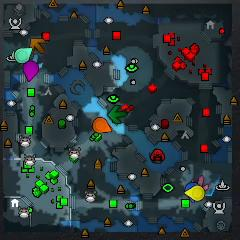p1: (185, 183, 198, 203)
p2: (15, 48, 33, 64)
p3: (23, 61, 39, 81)
p4: (185, 186, 204, 201)
p5: (94, 117, 112, 133)
x1: (191, 176, 209, 190)
x3: (32, 54, 43, 68)
x4: (108, 106, 127, 123)
x5: (30, 37, 46, 54)
